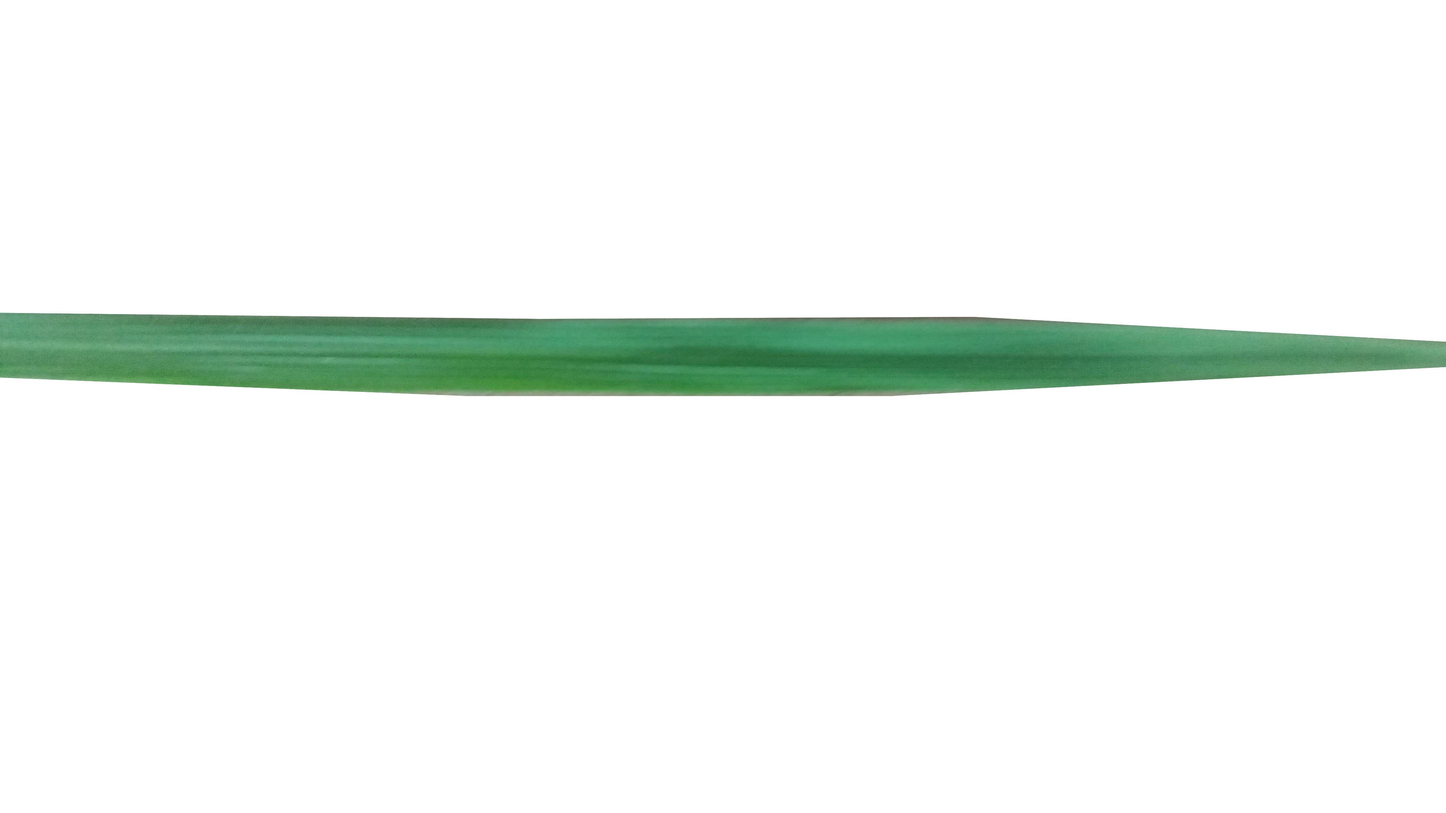Healthy: (0, 310, 1446, 400)
